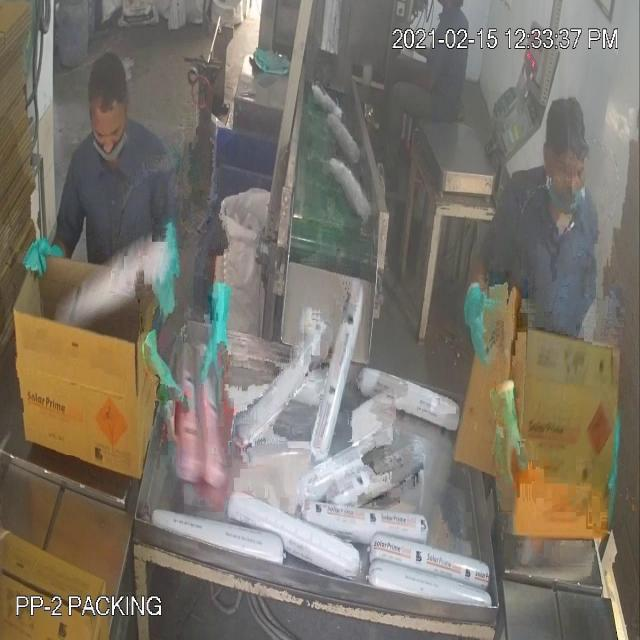Gloves: (42, 62, 483, 322)
